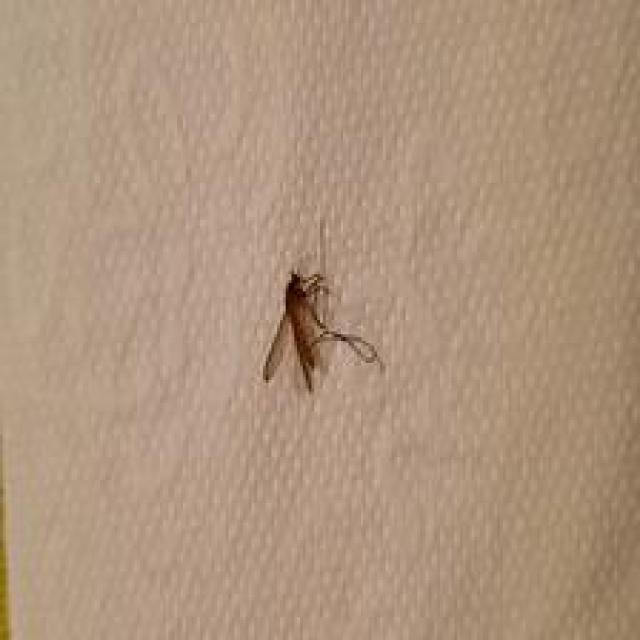Culex: (260, 266, 386, 394)
